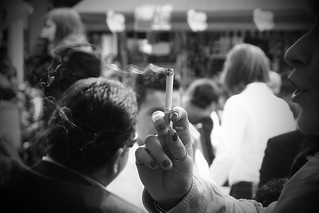cigarette: (160, 67, 176, 131)
